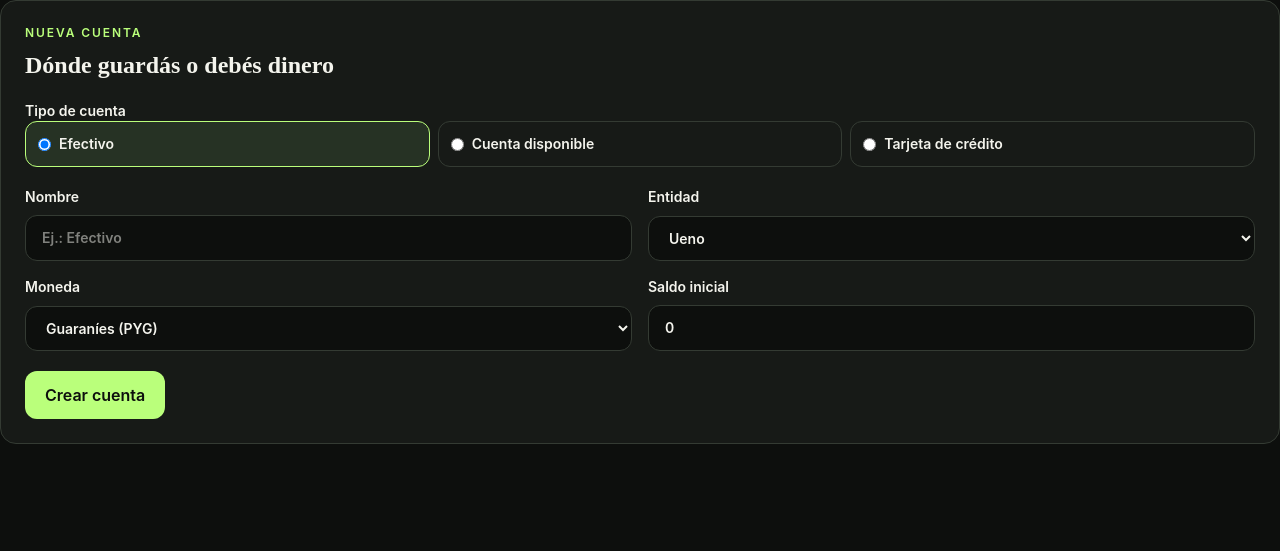
Test case: AccountForm › reveals the credit-card debt and custom institution fields
Click the radio button labelled "Tarjeta de crédito". click: (870, 144)
box: [863,138,876,150]
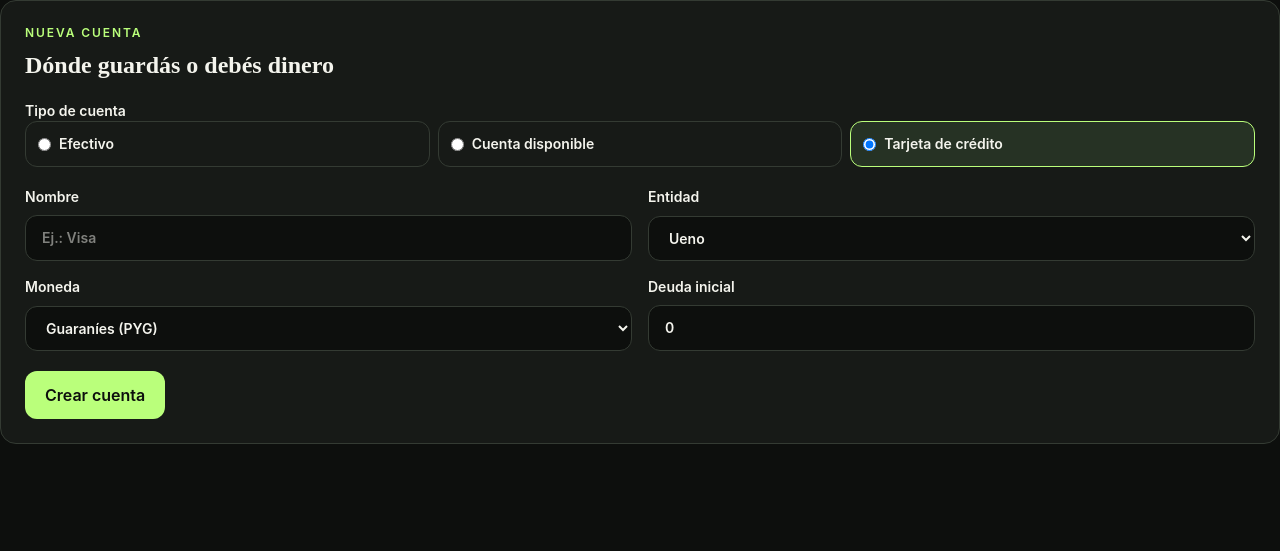
Select "Otro" in the dropdown labelled "Entidad". click: (952, 238)
box: [648,216,1255,261]
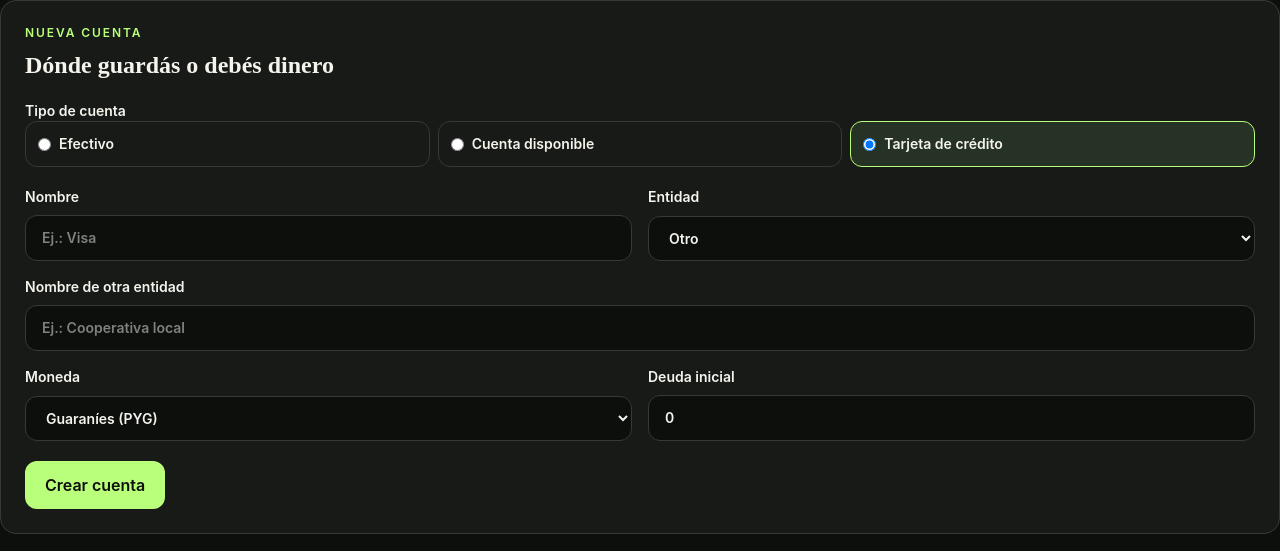
Expected: the field labelled "Deuda inicial" is shown, [648,395,1255,441]
Result: the field labelled "Nombre de otra entidad" is shown at [25,305,1255,351]
